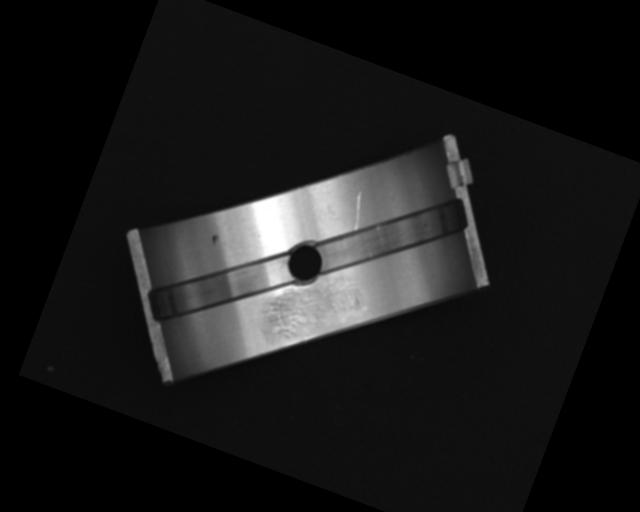bruise: (208, 232, 220, 247)
gap: (307, 163, 470, 307), (141, 218, 296, 356)
hole: (279, 237, 329, 288)
nick: (346, 190, 369, 231)
scratch: (258, 253, 373, 360)
